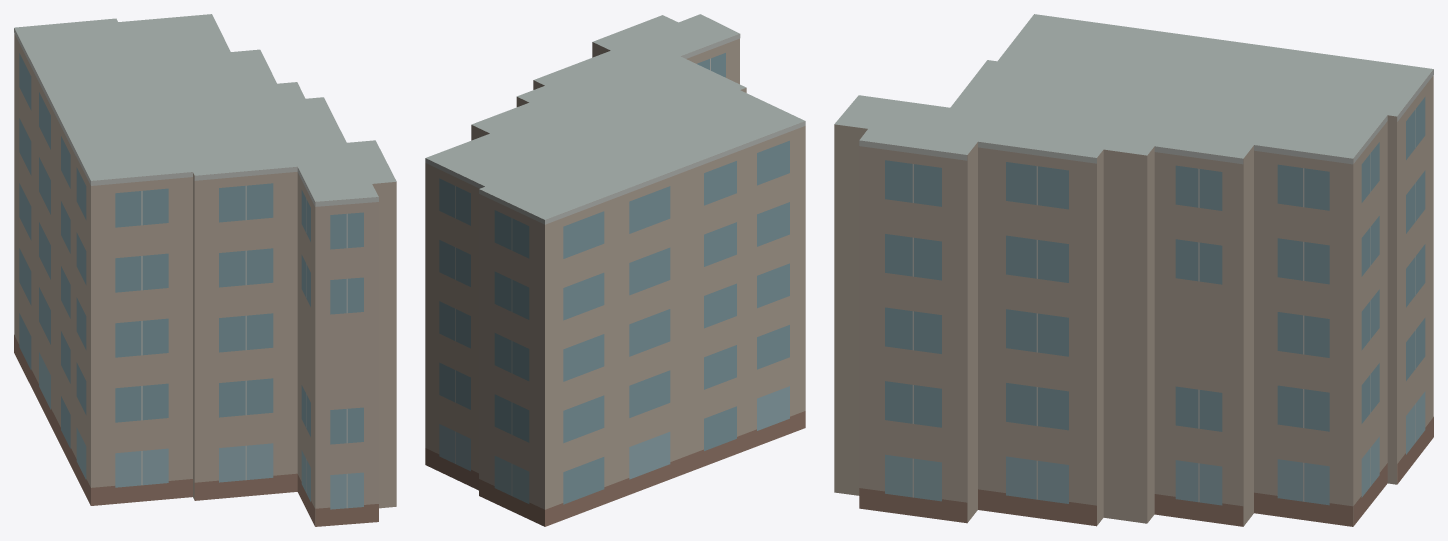
File: survey-upis-32757255.glb
3 renders of one model, left to right at view 1: azimuth 30°, elevation 25°; view 2: azimuth 150°, elevation 25°; view 3: azimuth 270°, elevation 25°, orthographic. The views are drawn at different scales.
Visible parts, largest first — view 1: survey-upis-32757255.tmp; view 2: survey-upis-32757255.tmp; view 3: survey-upis-32757255.tmp.
Part boxes in pixels (x1,y1,x2,y2): survey-upis-32757255.tmp: [14, 14, 396, 526]; survey-upis-32757255.tmp: [425, 14, 805, 526]; survey-upis-32757255.tmp: [834, 14, 1433, 526].
Bounding box in the file's own units: 13.24 × 15.7 × 23.18.
